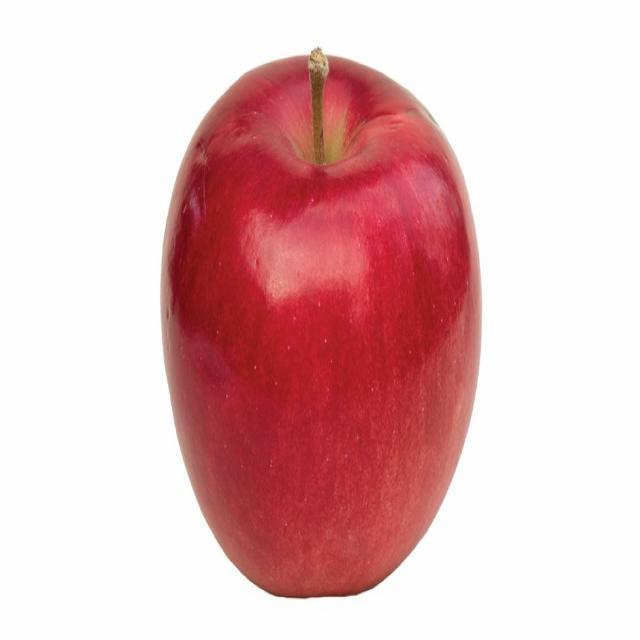Apple: (157, 46, 485, 604)
